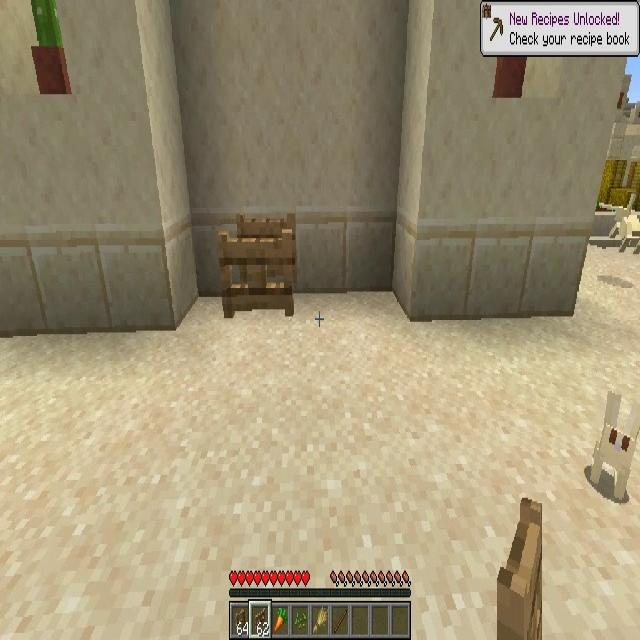rabbit: (588, 394, 640, 498), (608, 192, 640, 252)
